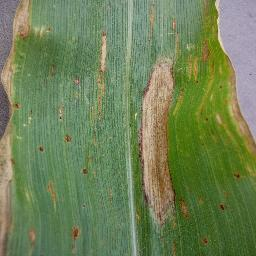Corn_Blight: (133, 47, 186, 233), (189, 0, 254, 126), (0, 119, 15, 254), (141, 1, 183, 41), (2, 43, 22, 117), (93, 26, 108, 122), (10, 0, 33, 40), (235, 121, 256, 156), (46, 177, 59, 215), (69, 225, 82, 254), (36, 22, 56, 40), (27, 227, 39, 248), (47, 56, 58, 78), (201, 233, 214, 250), (25, 107, 34, 130), (63, 132, 78, 145), (79, 165, 93, 178), (216, 202, 231, 213), (74, 73, 82, 92), (57, 103, 63, 126), (234, 171, 246, 182), (37, 145, 49, 154)
